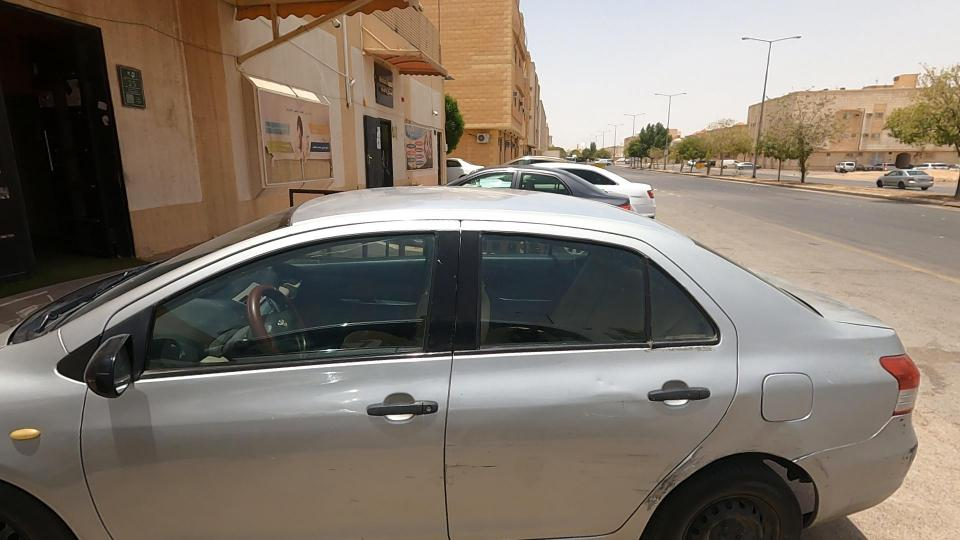BAD_BILLBOARD: (194, 13, 394, 238)
